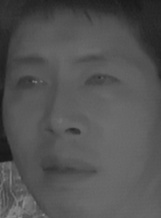eye: (83, 70, 120, 93), (15, 73, 51, 95)
mouth: (37, 152, 99, 190)
